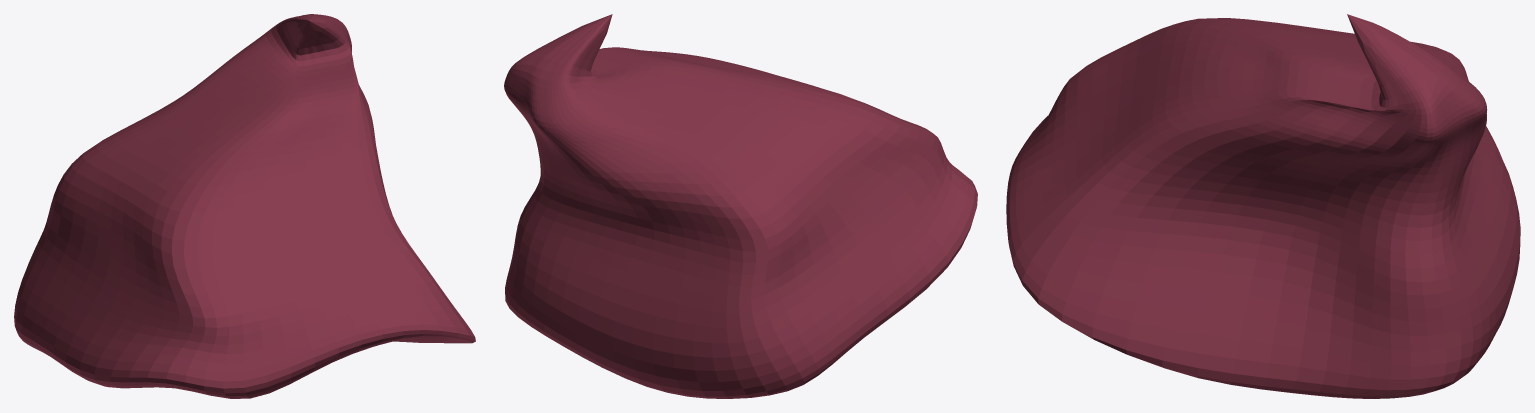
File: Hat 1.fbx
3 views of the same model, side by side, from view 1: azimuth 30°, elevation 25°; view 2: azimuth 150°, elevation 25°; view 3: azimuth 270°, elevation 25° (orthographic). The views are drawn at different scales.
Parts seen in each view (by area): view 1: Hat 1; view 2: Hat 1; view 3: Hat 1.
Part boxes in pixels (x1,y1,x2,y2): Hat 1: [14, 14, 475, 398]; Hat 1: [504, 14, 977, 398]; Hat 1: [1006, 14, 1520, 398].
Bounding box in the file's own units: 123 × 105 × 130.
